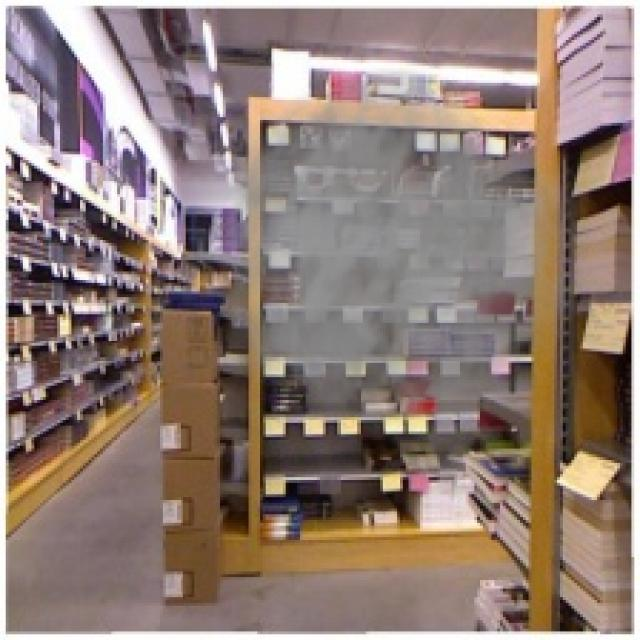smoke: (200, 66, 589, 460)
